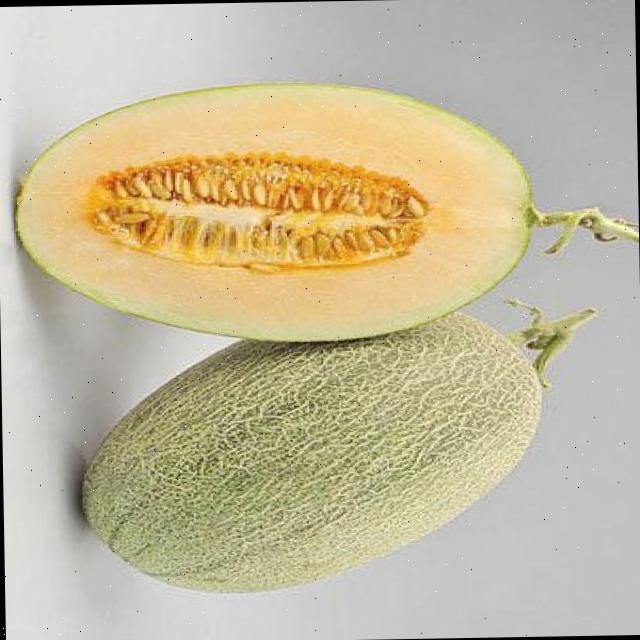Hami Melon: (15, 76, 534, 343), (79, 306, 548, 592)
